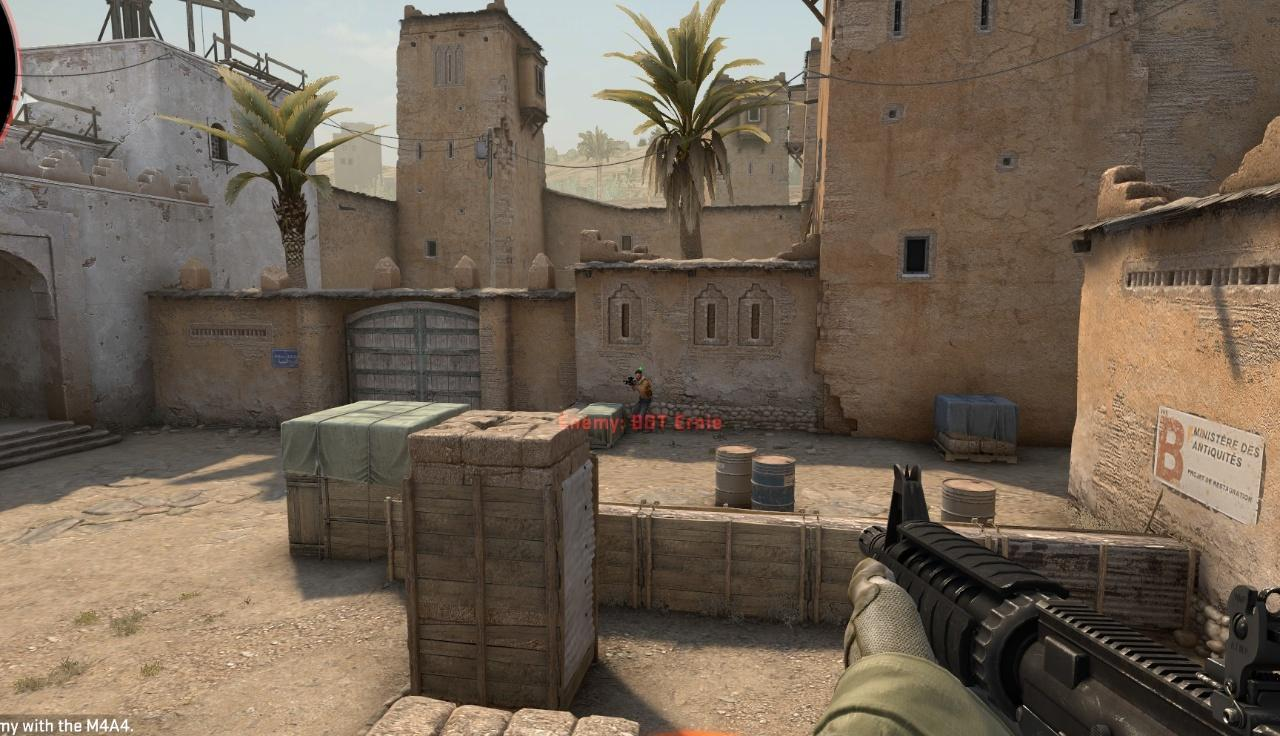rifle: (812, 465, 1280, 736)
tt: (631, 370, 652, 434)
tthead: (635, 370, 642, 380)
